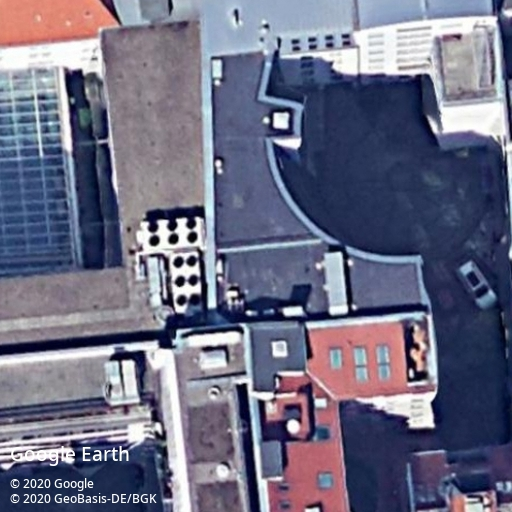Chiller: (135, 214, 209, 253), (168, 249, 206, 317)
